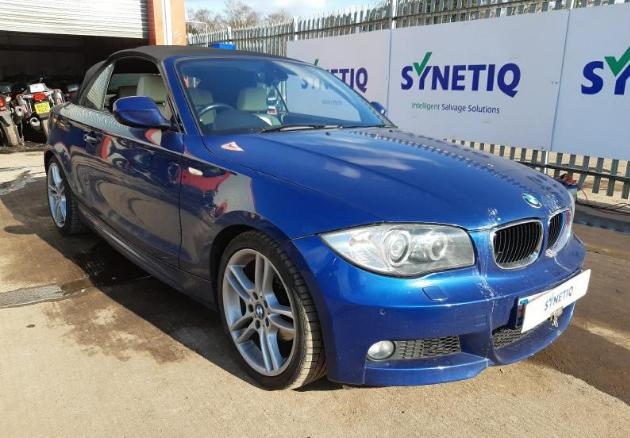Back-door: (63, 61, 116, 212)
Back-wheel: (47, 153, 92, 234)
Back-window: (81, 73, 108, 108)
Fender: (180, 134, 379, 280)
Front-bumper: (283, 231, 590, 387)
Front-door: (92, 56, 184, 268)
Front-wheel: (214, 229, 325, 390)
Front-window: (105, 58, 176, 119)
Grille: (492, 220, 543, 268), (547, 211, 568, 254)
Headlight: (319, 223, 476, 278)
Hood: (205, 127, 574, 232)
License-plate: (518, 272, 591, 327)
Mirror: (113, 97, 187, 133), (370, 101, 386, 116)
Quarter-panel: (43, 101, 74, 188)
Rocker-panel: (78, 201, 216, 311)
Roof: (113, 44, 307, 62)
Windshield: (176, 62, 391, 134)
